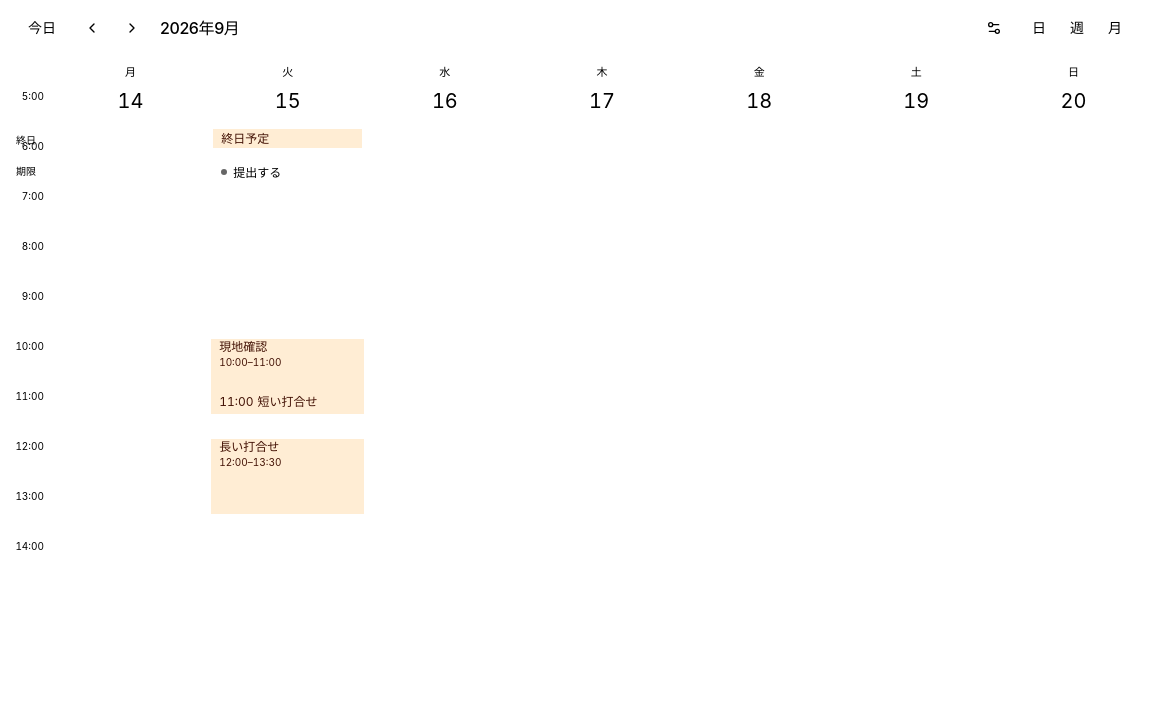
Test: schedule calendar › keeps a half-hour event readable and clickable at the deadline-chip baseline
The width and height of the screenshot is (1152, 720).
(page scrolled)
Expected: the element showing "11:00短い打合せ" is shown, 219,394 -> 318,408
Click the button "11:00短い打合せ". click: coordinates (288, 401)
box: 211,388 -> 364,414
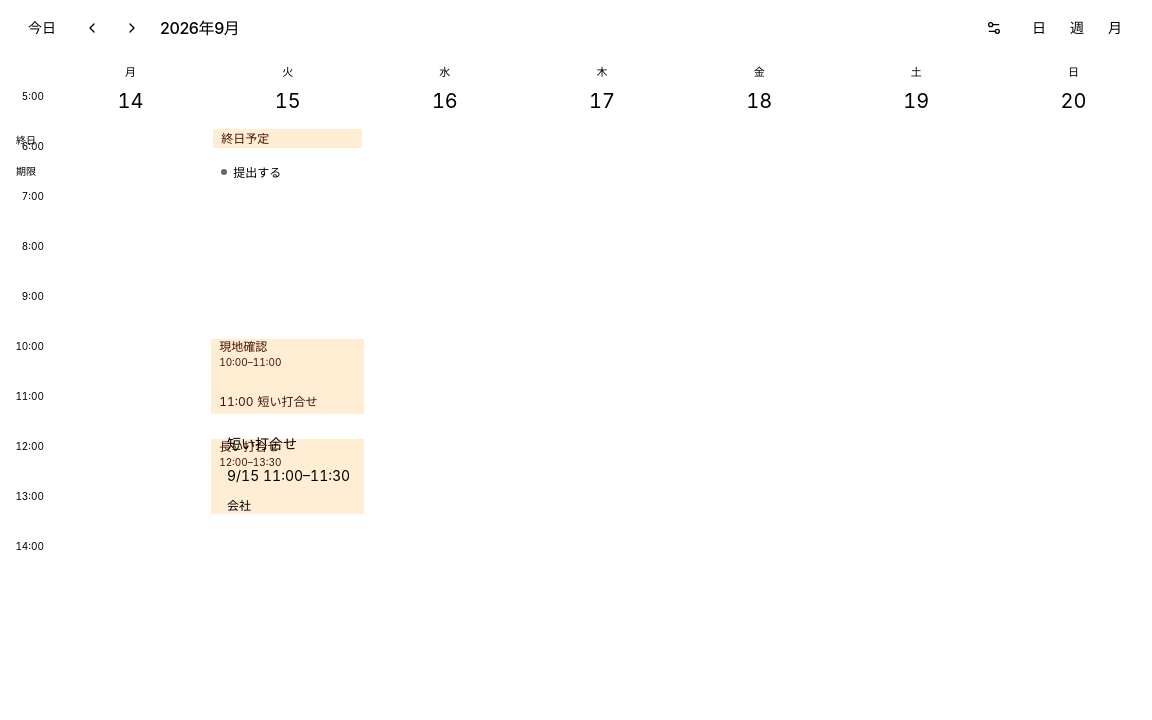
Result: the text "9/15 11:00–11:30" is shown at 227,467 -> 350,484
